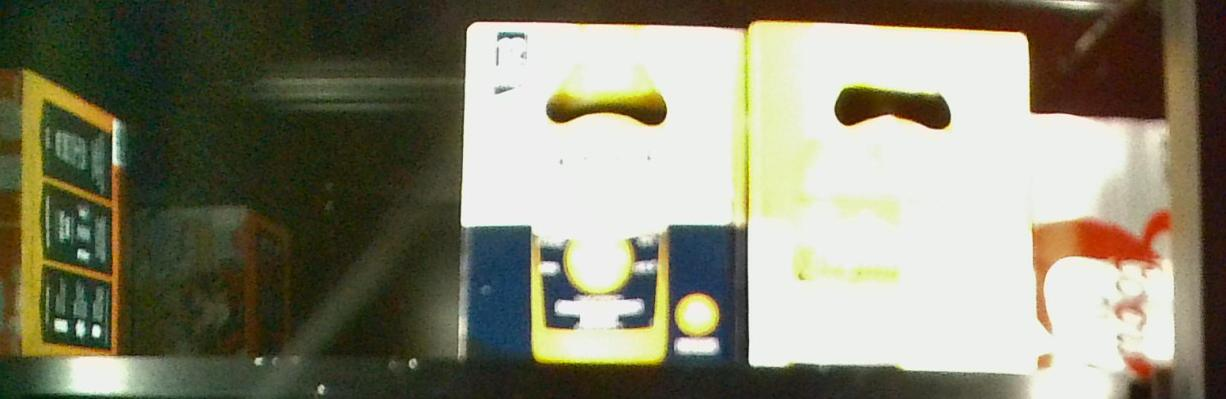bottle: (748, 17, 1037, 370), (461, 20, 745, 360), (1031, 114, 1174, 363)
